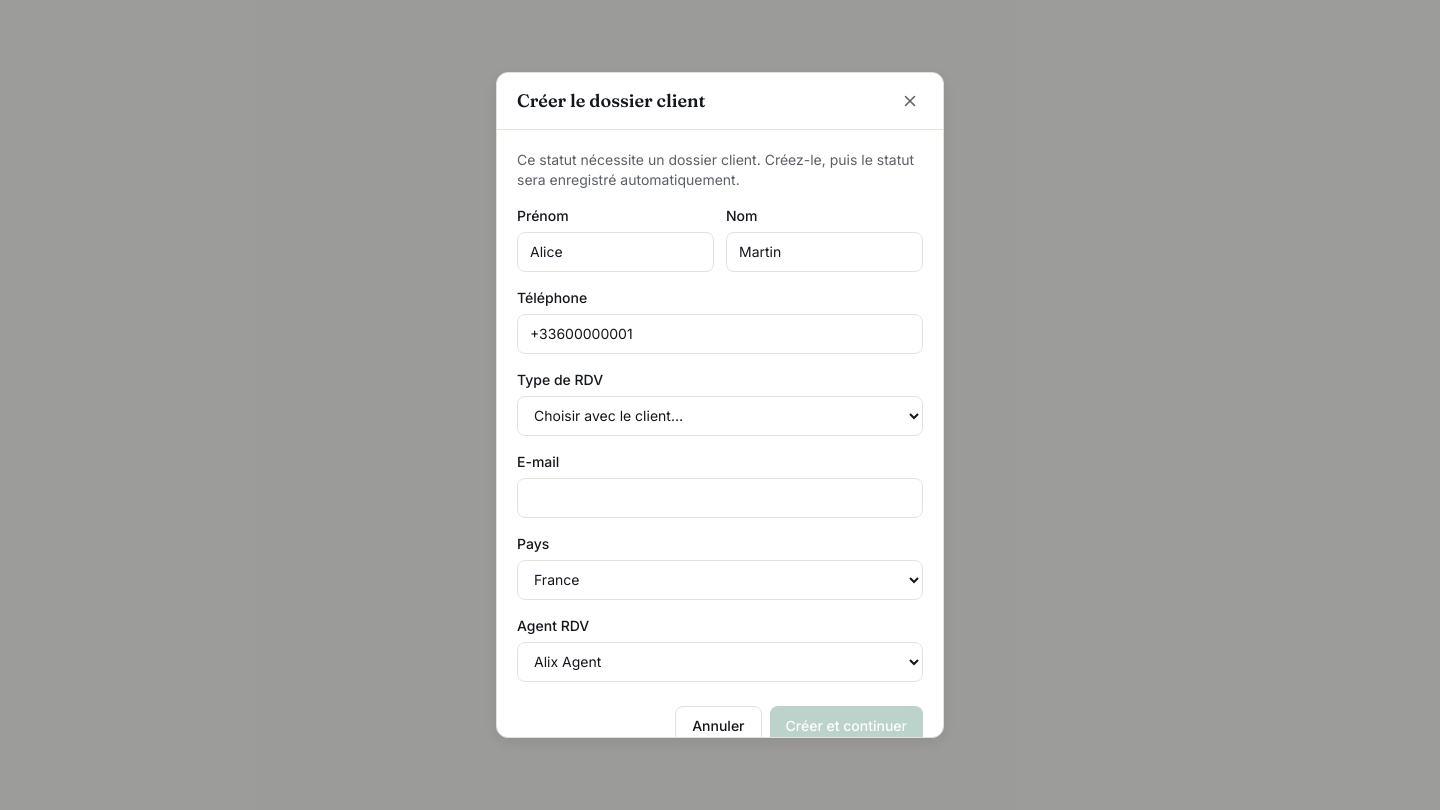
Test: §6.25 lot C — CreateClientDossierModal seule › modifiée (nom pré-rempli depuis l'appel changé) : confirmation
The width and height of the screenshot is (1440, 810).
Expected: the dropdown labelled "Agent RDV" shows "Alix Agent", [517, 642, 923, 682]
Replace the text in the field labelled "Nom" with "Martin-Durand" at x=824, y=252, box [726, 232, 923, 272]
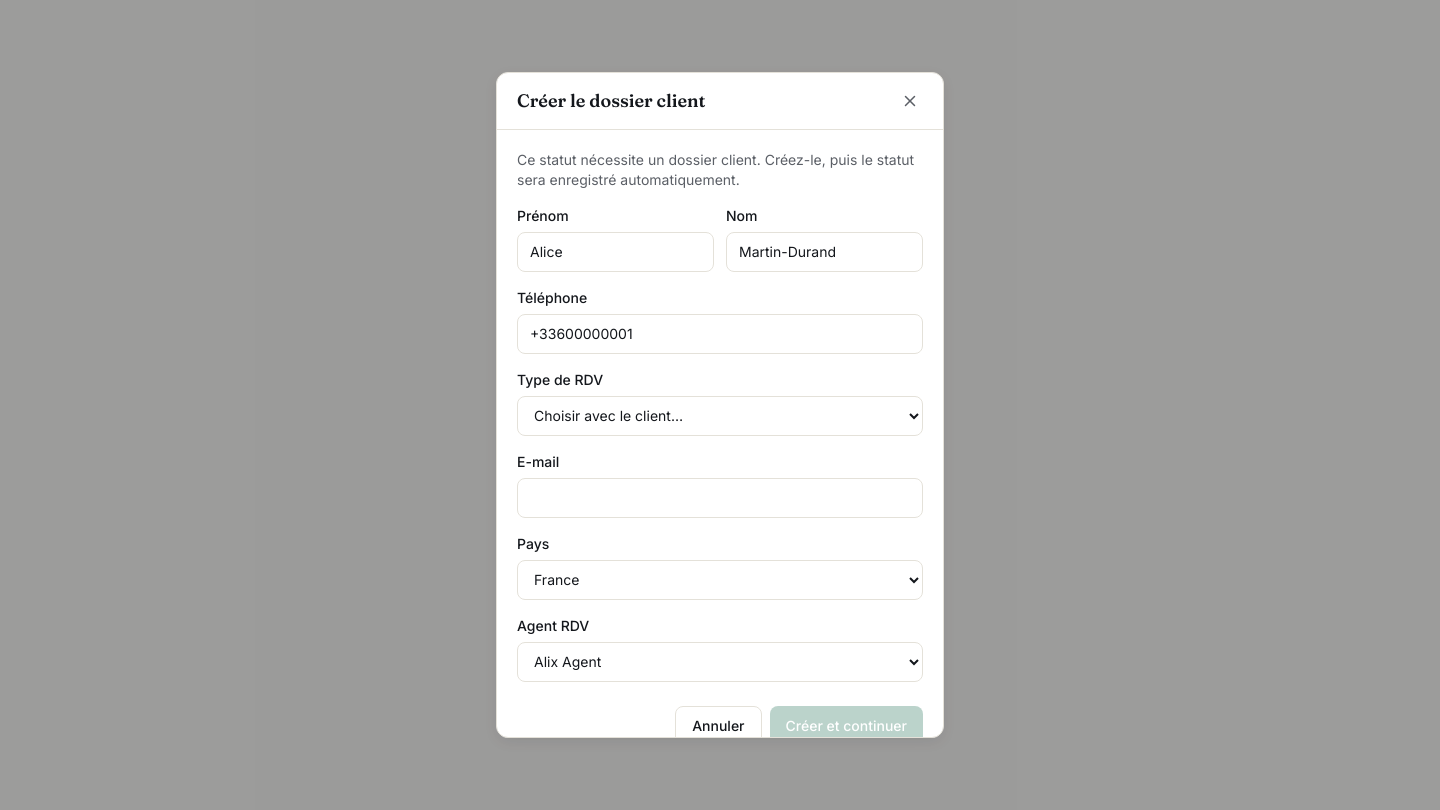
Click the button named "Fermer" at x=910, y=101, box [897, 88, 923, 114]
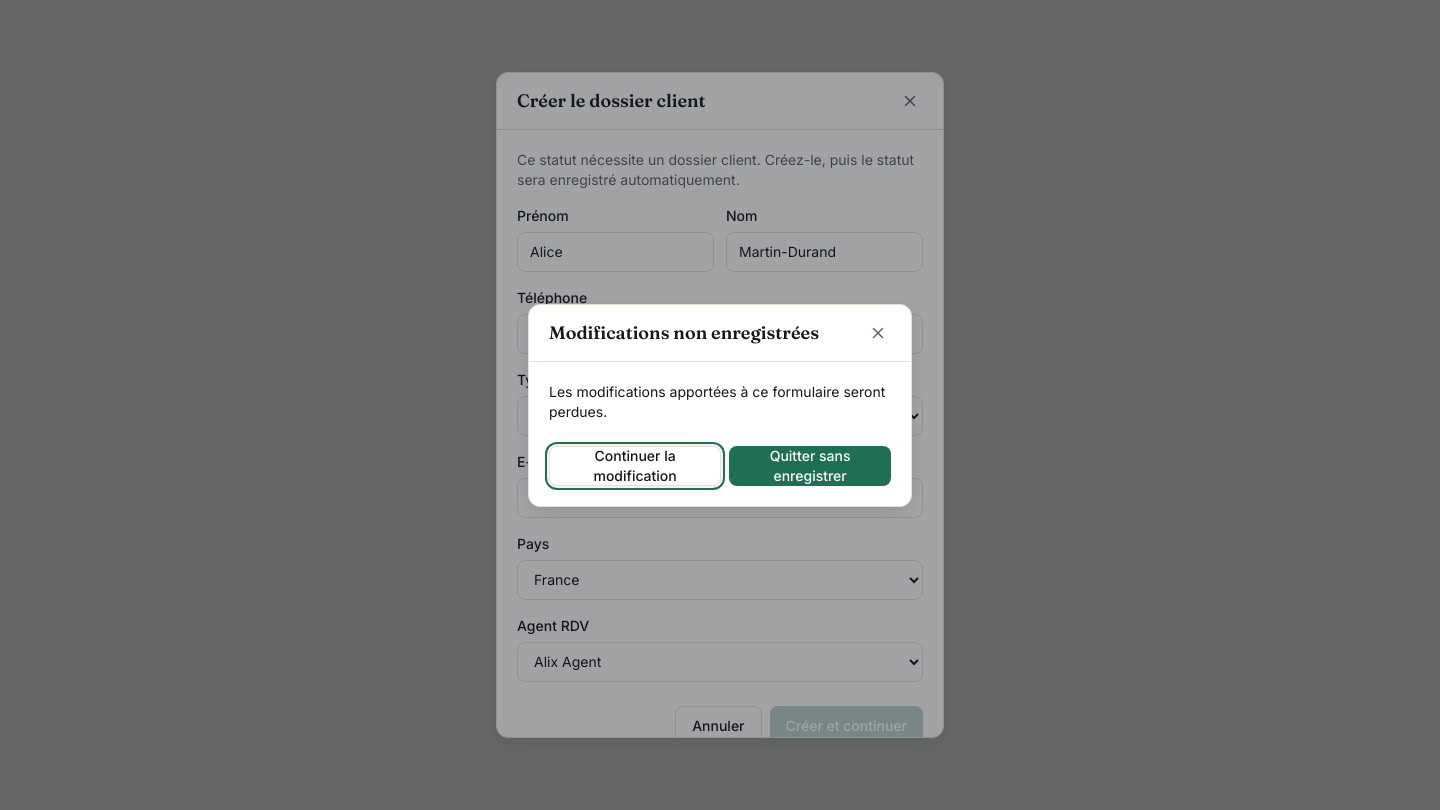
Now the heading "Modifications non enregistrées" is shown, box [549, 318, 819, 346]
